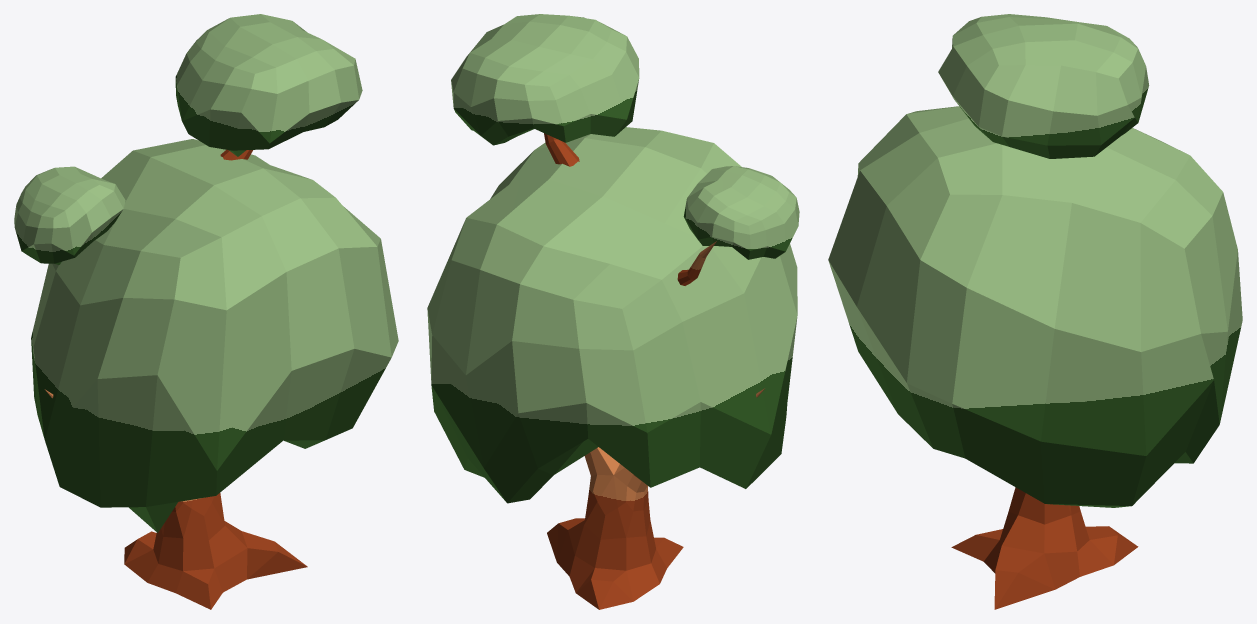
File: LargeTree.glb
3 views of the same model, side by side, from view 1: azimuth 30°, elevation 25°; view 2: azimuth 150°, elevation 25°; view 3: azimuth 270°, elevation 25° (orthographic). The views are drawn at different scales.
Parts seen in each view (by area): view 1: Tree.060; view 2: Tree.060; view 3: Tree.060.
Part boxes in pixels (x1,y1,x2,y2): Tree.060: (14, 14, 398, 609); Tree.060: (427, 14, 799, 609); Tree.060: (828, 14, 1242, 609).
Size of the model in its own units: 2.36 by 3.51 by 2.31.
1 material, 1 textured.
